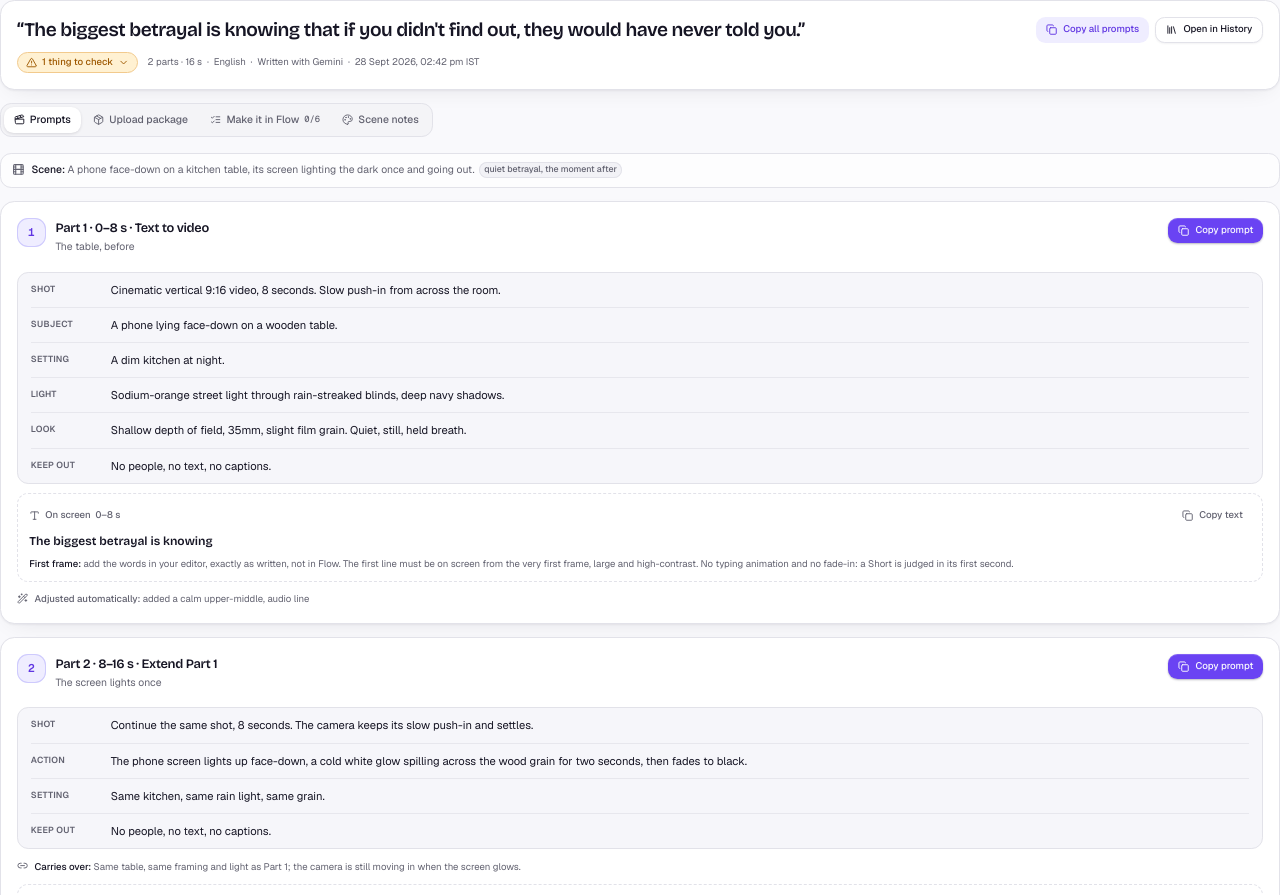
PlanView tabs › still works when storage is blocked
Click the tab "Scene notes" at (381, 120), box [333,107,428,132]
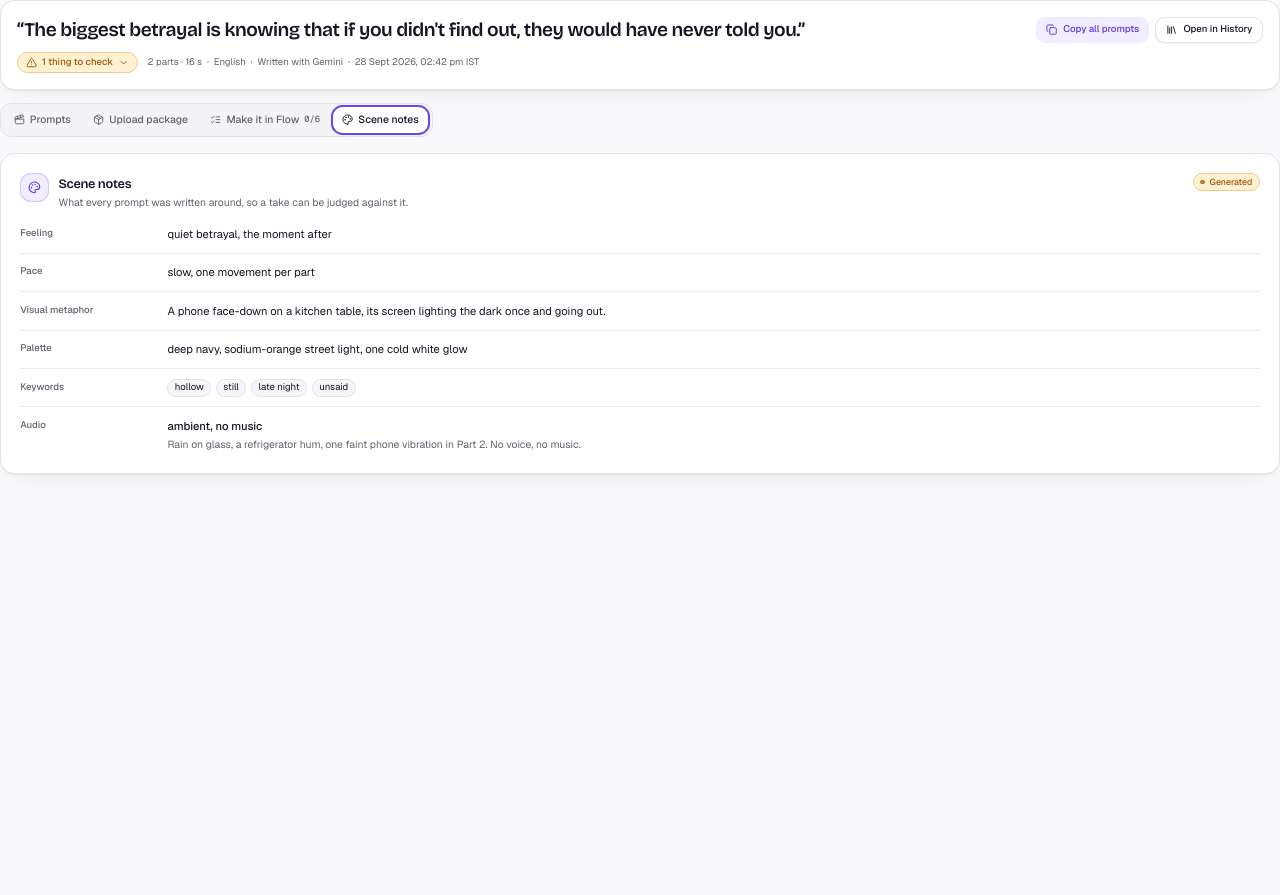
Check: the element with test id "scene-notes" is shown, box [0,153,1279,474]
